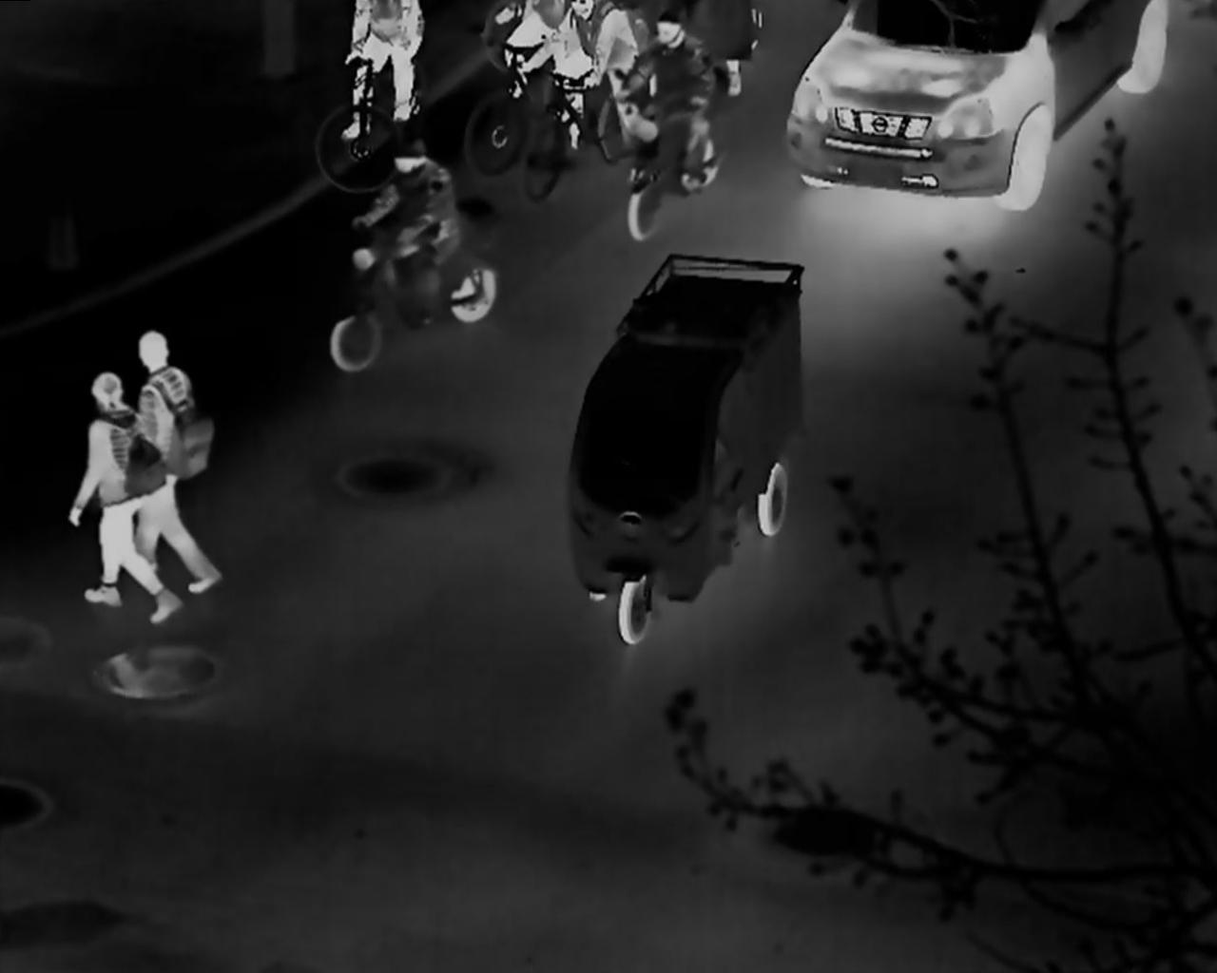person: (67, 370, 186, 627), (136, 330, 221, 596), (351, 135, 460, 331), (612, 7, 715, 195)
